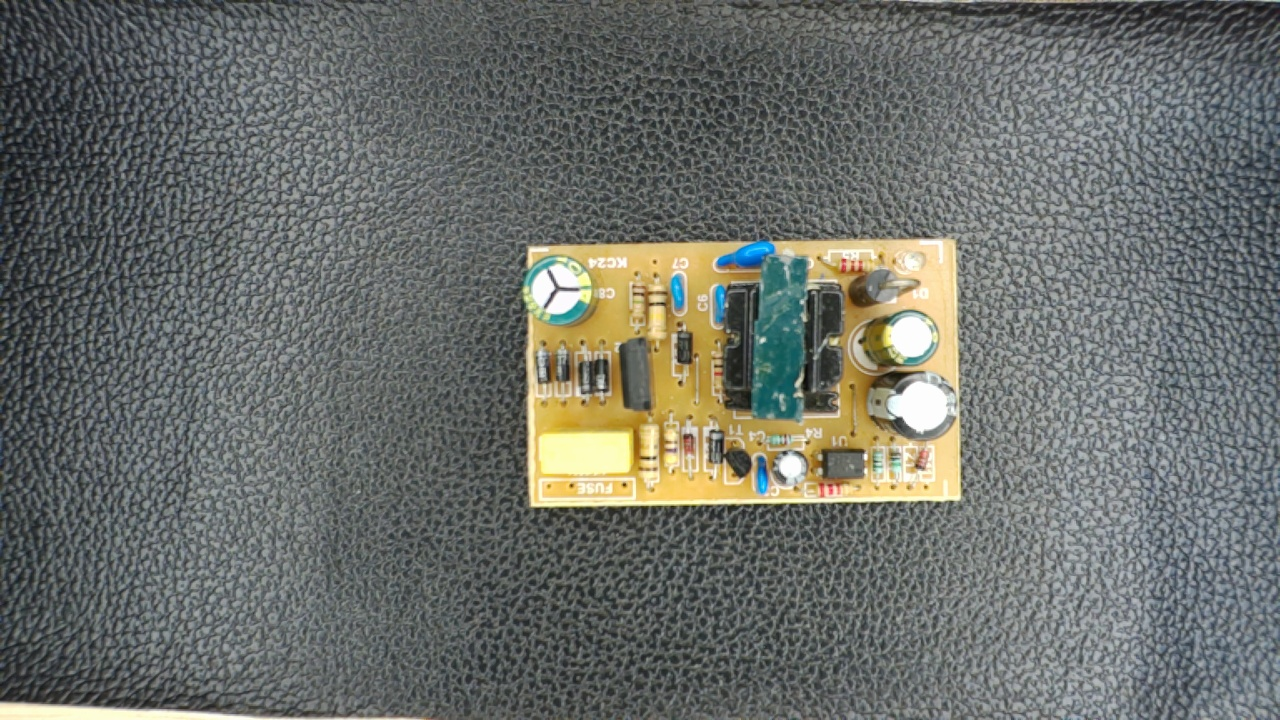hv_capacitor: (521, 257, 600, 327)
mov: (713, 240, 786, 273)
optocoupler: (809, 444, 876, 485)
